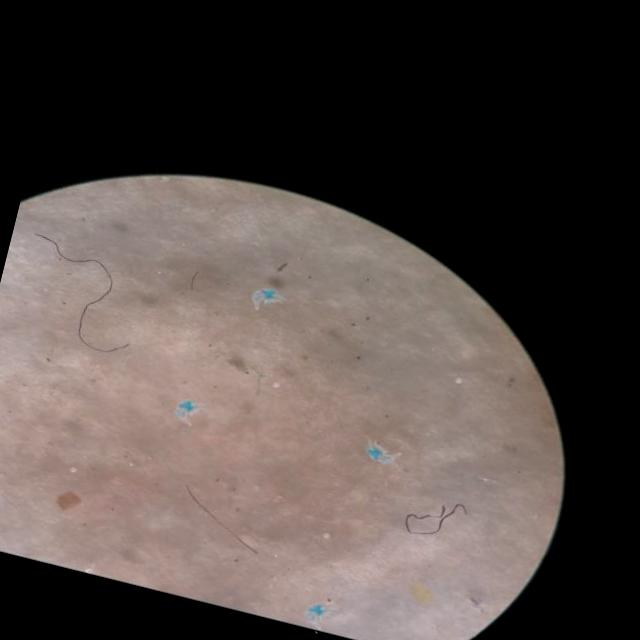fiber: (39, 236, 125, 353), (188, 488, 258, 551), (406, 502, 467, 535)
film: (367, 443, 393, 463), (253, 287, 279, 305), (179, 399, 197, 419), (308, 603, 326, 619)
fragment: (57, 491, 81, 509), (412, 583, 432, 602)
pellet: (455, 377, 462, 383), (274, 382, 280, 387), (70, 467, 76, 471)
